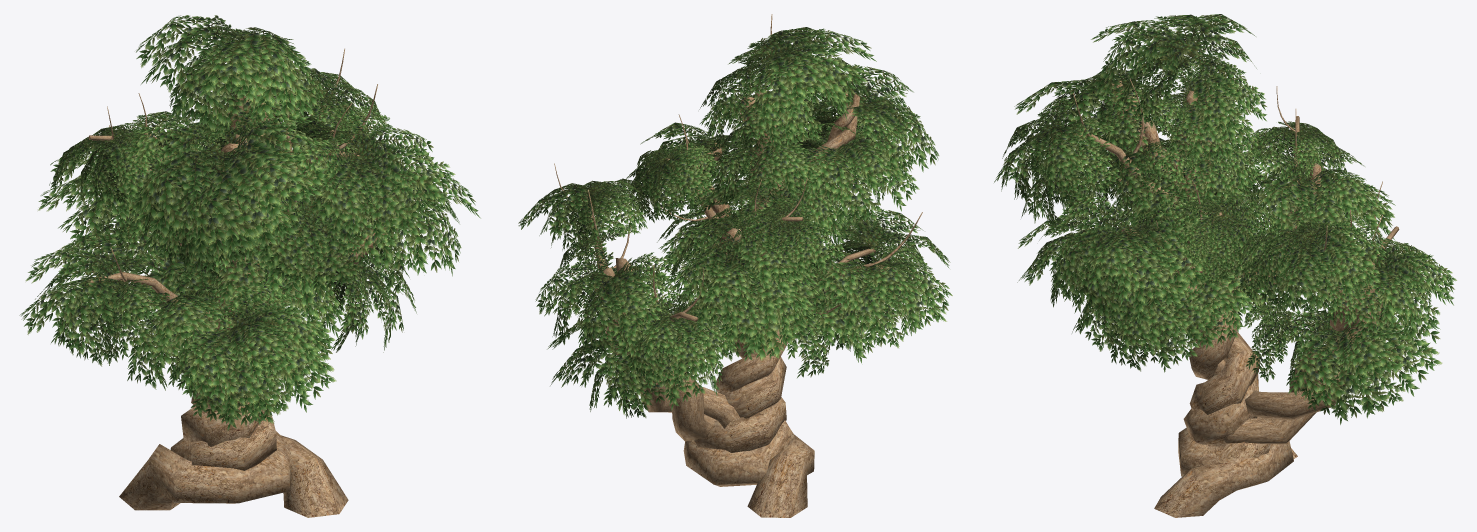
File: big_tree.fbx
3 renders of one model, left to right at view 1: azimuth 30°, elevation 25°; view 2: azimuth 150°, elevation 25°; view 3: azimuth 270°, elevation 25°, orthographic. The views are drawn at different scales.
Visible parts, largest first — view 1: polySurface4, polySurface3, polySurface5, polySurface1, polySurface2; view 2: polySurface3, polySurface5, polySurface4, polySurface1, polySurface2; view 3: polySurface3, polySurface5, polySurface4, polySurface1, polySurface2.
Part boxes in pixels (x1=…): polySurface4: x1=49, y1=101, x2=480, y2=425; polySurface3: x1=50, y1=15, x2=398, y2=430; polySurface5: x1=19, y1=68, x2=416, y2=366; polySurface1: x1=119, y1=73, x2=348, y2=517; polySurface2: x1=87, y1=48, x2=385, y2=328; polySurface3: x1=535, y1=27, x2=899, y2=412; polySurface5: x1=518, y1=112, x2=952, y2=418; polySurface4: x1=599, y1=43, x2=950, y2=386; polySurface1: x1=594, y1=90, x2=814, y2=517; polySurface2: x1=554, y1=14, x2=922, y2=356; polySurface3: x1=1021, y1=14, x2=1456, y2=372; polySurface5: x1=1079, y1=100, x2=1442, y2=424; polySurface4: x1=994, y1=57, x2=1442, y2=323; polySurface1: x1=1154, y1=90, x2=1382, y2=517; polySurface2: x1=1060, y1=76, x2=1399, y2=317.
Size of the model in its own units: 52.98 by 59.02 by 57.65.
